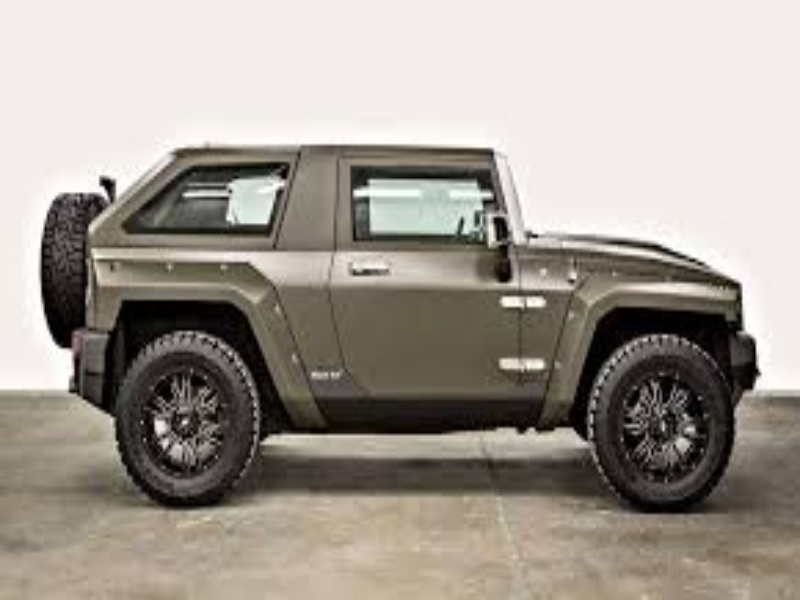jeep: (37, 131, 769, 516)
